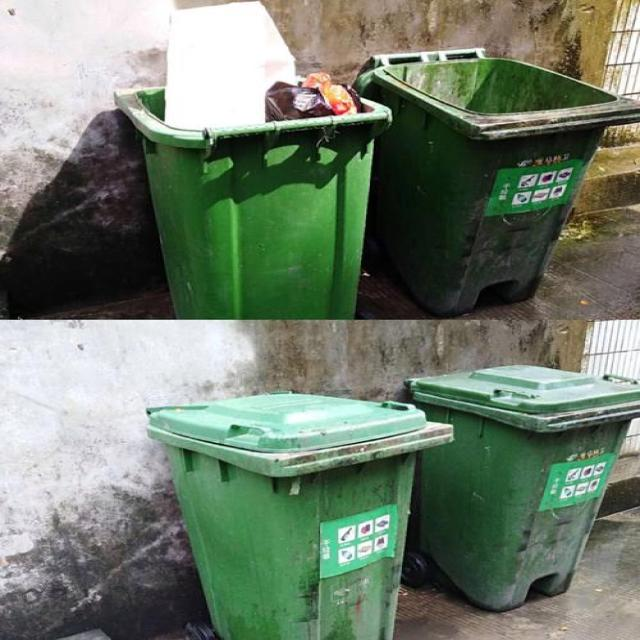garbage_bin: (144, 389, 450, 639), (356, 49, 635, 310), (406, 363, 638, 610)
overflow: (114, 1, 390, 318)
